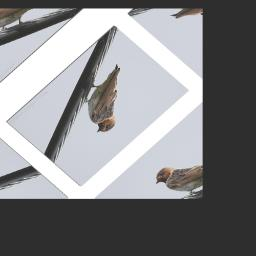Swallow: (65, 60, 154, 139)
